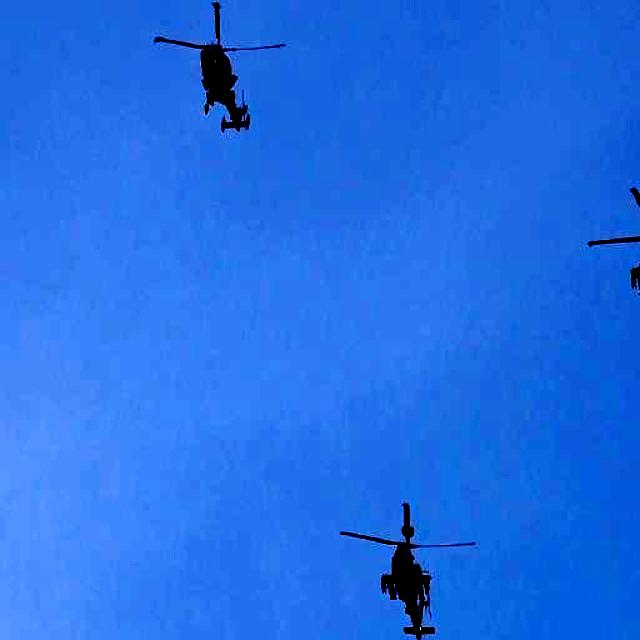drone: (341, 499, 478, 640), (154, 0, 288, 142), (585, 179, 640, 356)
